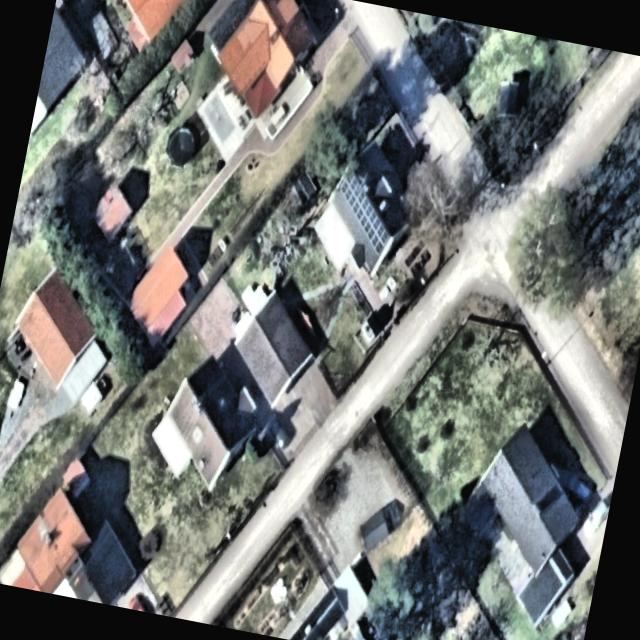roof_pv: (352, 192, 394, 254), (334, 166, 366, 220)
